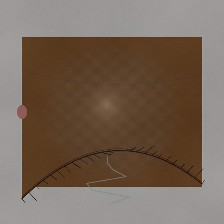foreign_body_visible: (59, 117, 76, 130)
